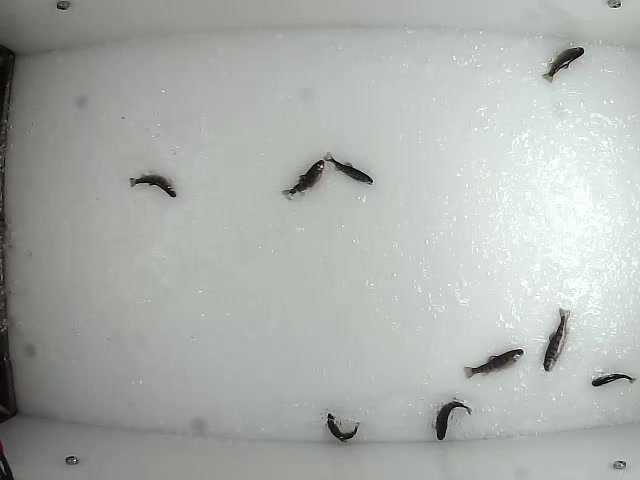fish: (541, 306, 572, 374), (462, 349, 525, 380), (280, 159, 326, 201), (320, 149, 372, 185), (540, 44, 585, 85), (432, 401, 473, 444), (128, 173, 178, 199), (323, 411, 360, 444), (587, 371, 635, 389)
